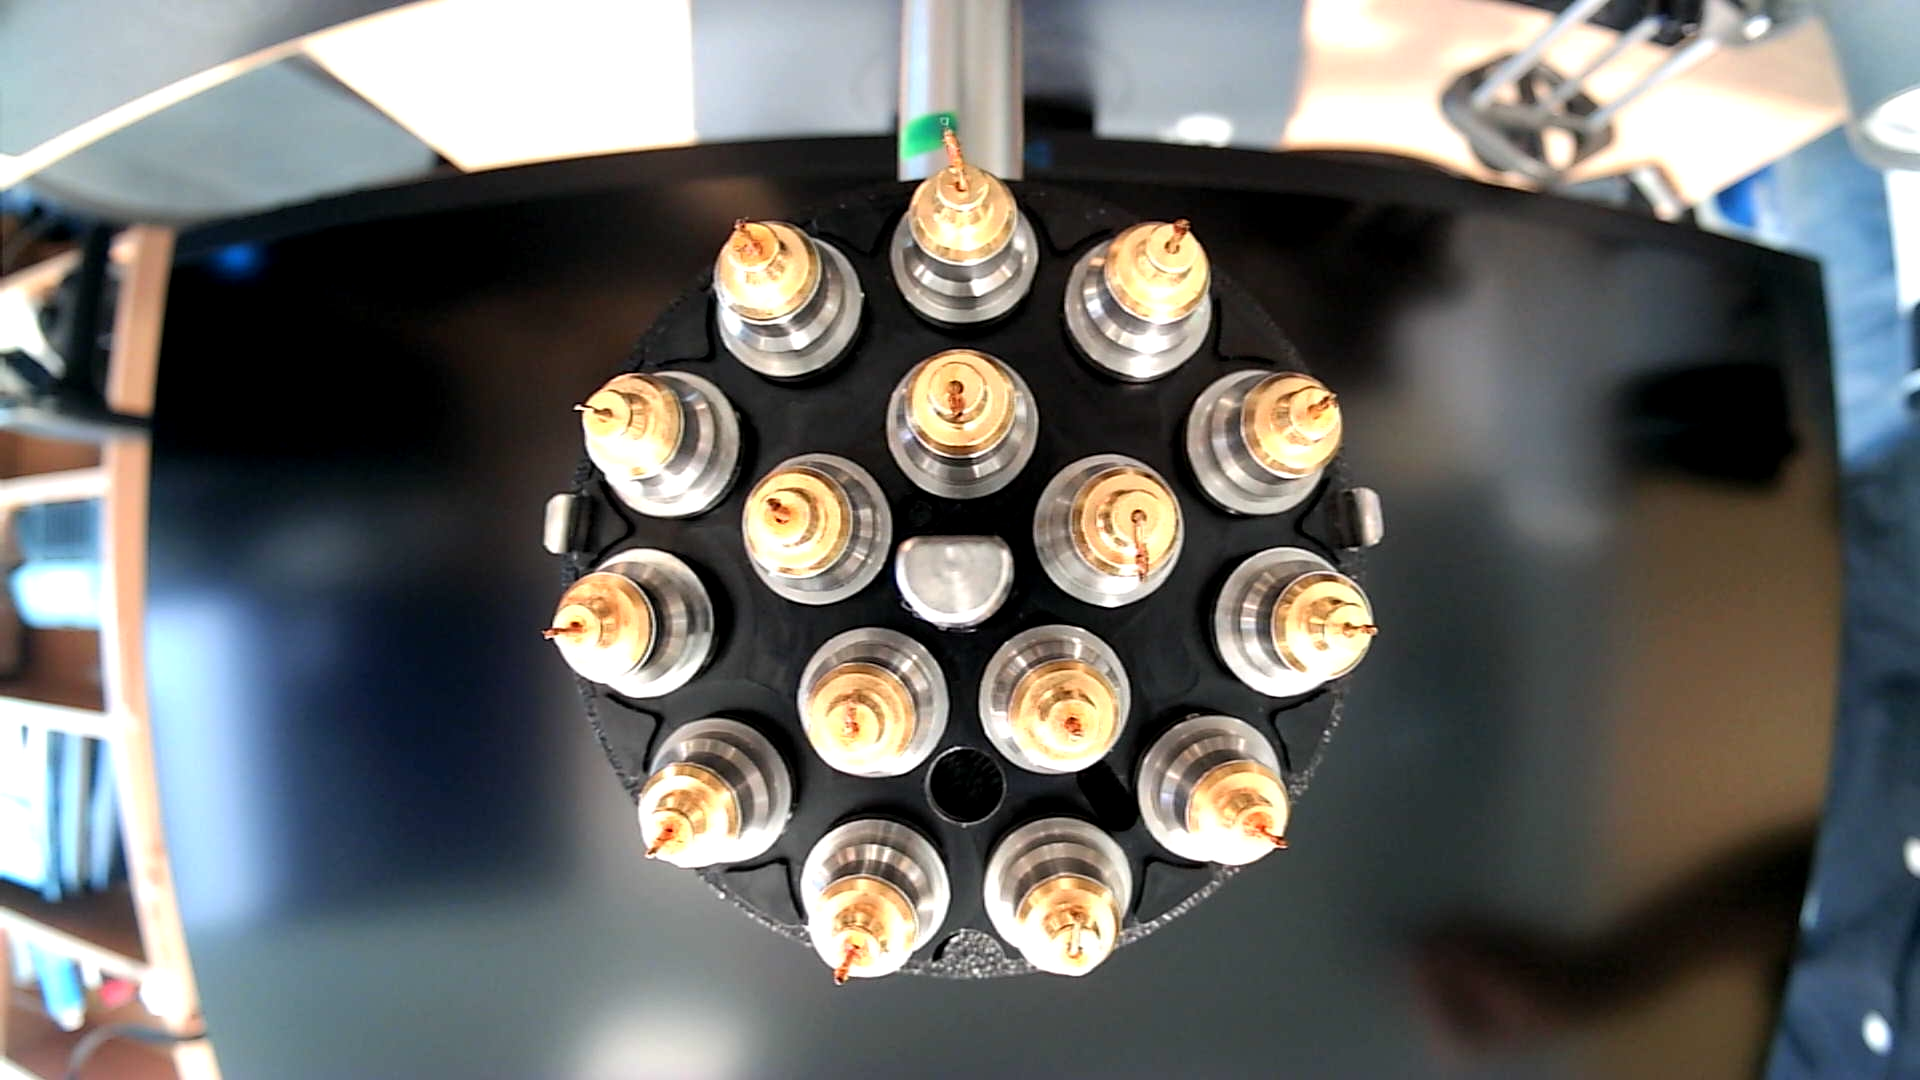bent: (887, 123, 1039, 328), (980, 814, 1138, 977), (882, 345, 1043, 504), (1029, 447, 1183, 611), (794, 625, 952, 782)
hole: (924, 742, 1006, 828)
pin: (535, 545, 720, 703), (796, 811, 953, 990), (1203, 543, 1374, 700), (568, 365, 742, 520), (709, 212, 862, 382), (1063, 208, 1215, 380), (1131, 709, 1294, 869), (636, 717, 791, 877), (978, 620, 1135, 775), (1180, 363, 1338, 517), (736, 454, 891, 609)
rod: (894, 531, 1018, 632)
